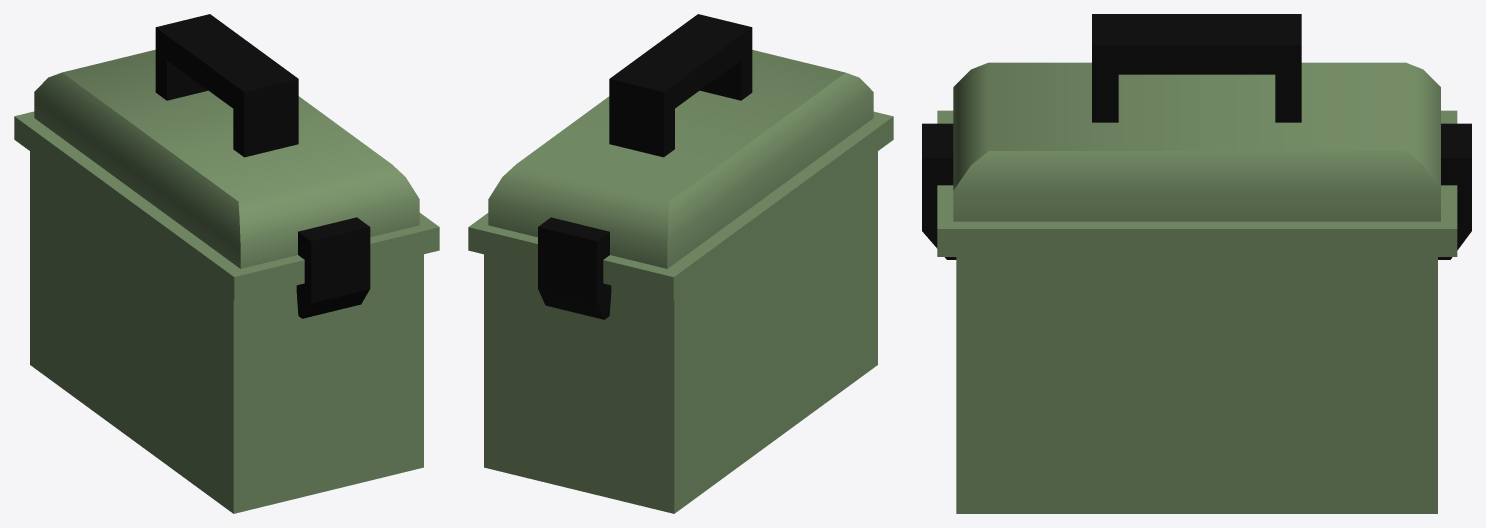
The model's file is AmoCrate.fbx.
The picture shows the model from 3 angles, left to right: view 1: azimuth 30°, elevation 25°; view 2: azimuth 150°, elevation 25°; view 3: azimuth 270°, elevation 25°; orthographic projection. The views are drawn at different scales.
Visible parts, largest first — view 1: AmoCrate; view 2: AmoCrate; view 3: AmoCrate.
Part boxes in pixels (left/top/right/bottom): AmoCrate: left=14, top=14, right=439, bottom=513; AmoCrate: left=468, top=14, right=893, bottom=513; AmoCrate: left=922, top=14, right=1471, bottom=513.
Bounding box in the file's own units: 146 × 246 × 286.
